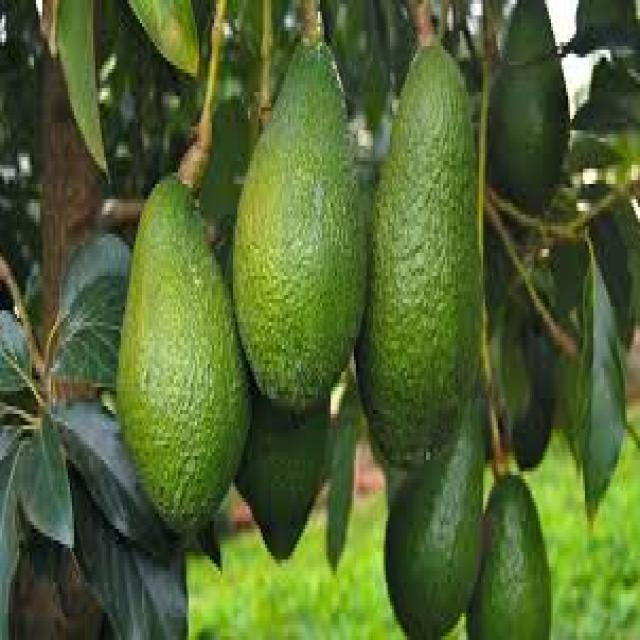avocado: (111, 152, 257, 565), (237, 5, 373, 428), (384, 22, 496, 462), (389, 393, 492, 640), (496, 0, 586, 256), (466, 462, 562, 640)
